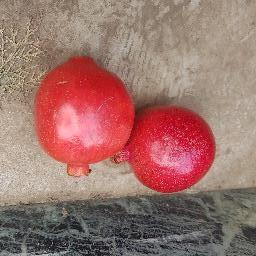pomegranate: (33, 57, 136, 177), (116, 103, 216, 193)
